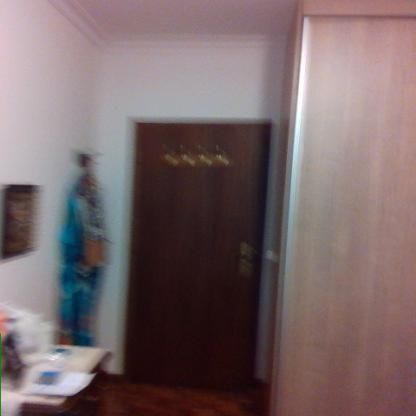door: (136, 125, 264, 390)
knob: (236, 249, 248, 260)
